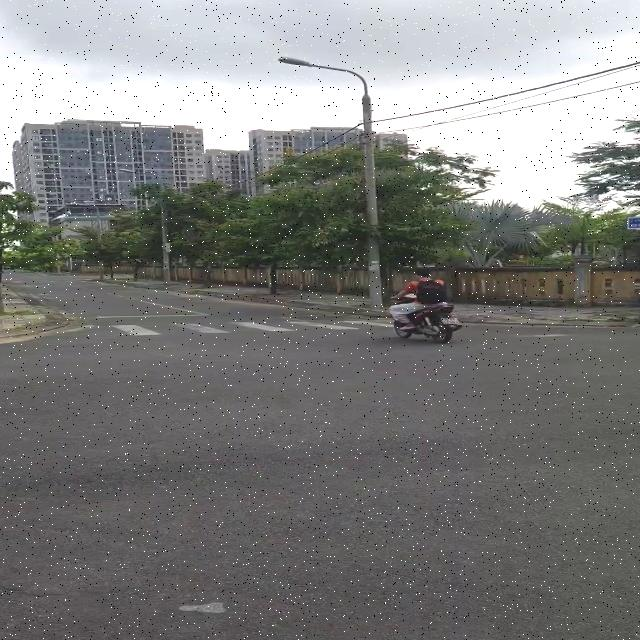no_helmet: (413, 268, 439, 282)
